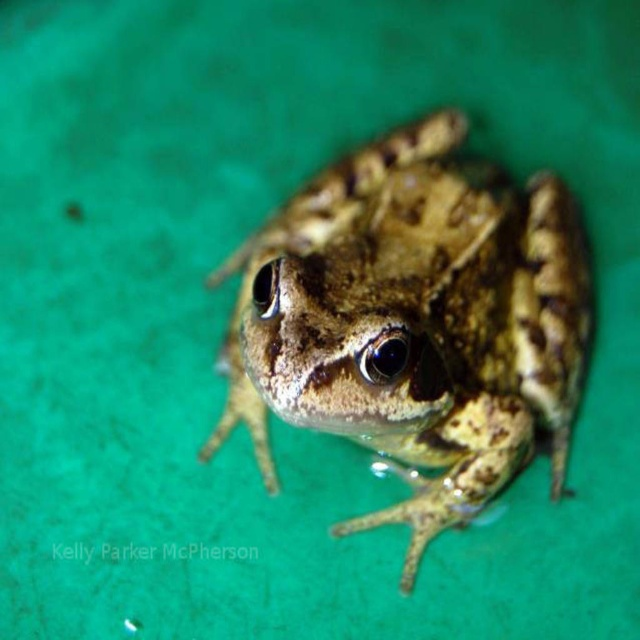Frog: (205, 107, 598, 599)
